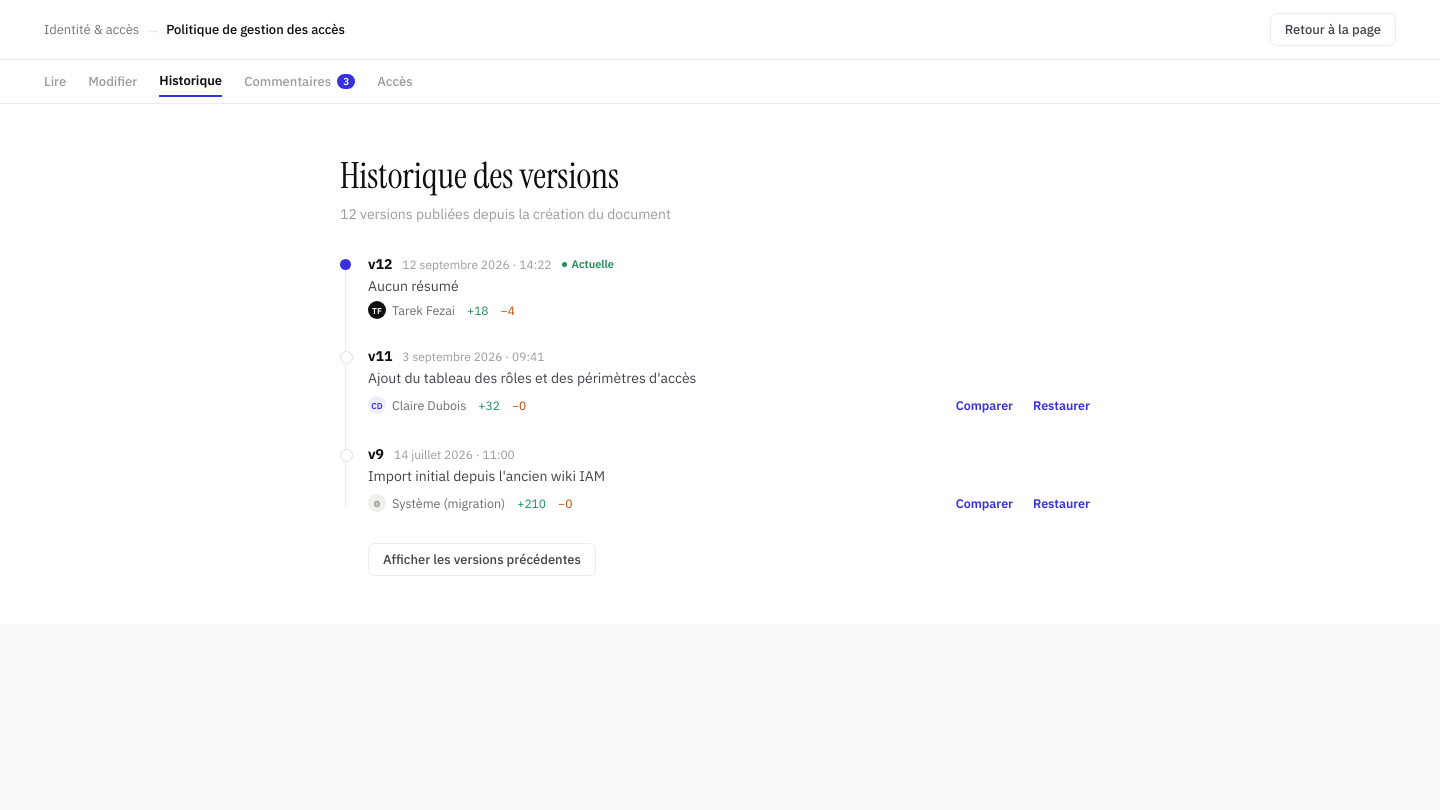
Test case: DocumentHistoryPage › modale : résumé absent → « sans résumé »
The image size is (1440, 810).
Click the button "Restaurer" in the row of "+32" at (1062,405), box left=1023, top=393, right=1100, bottom=417
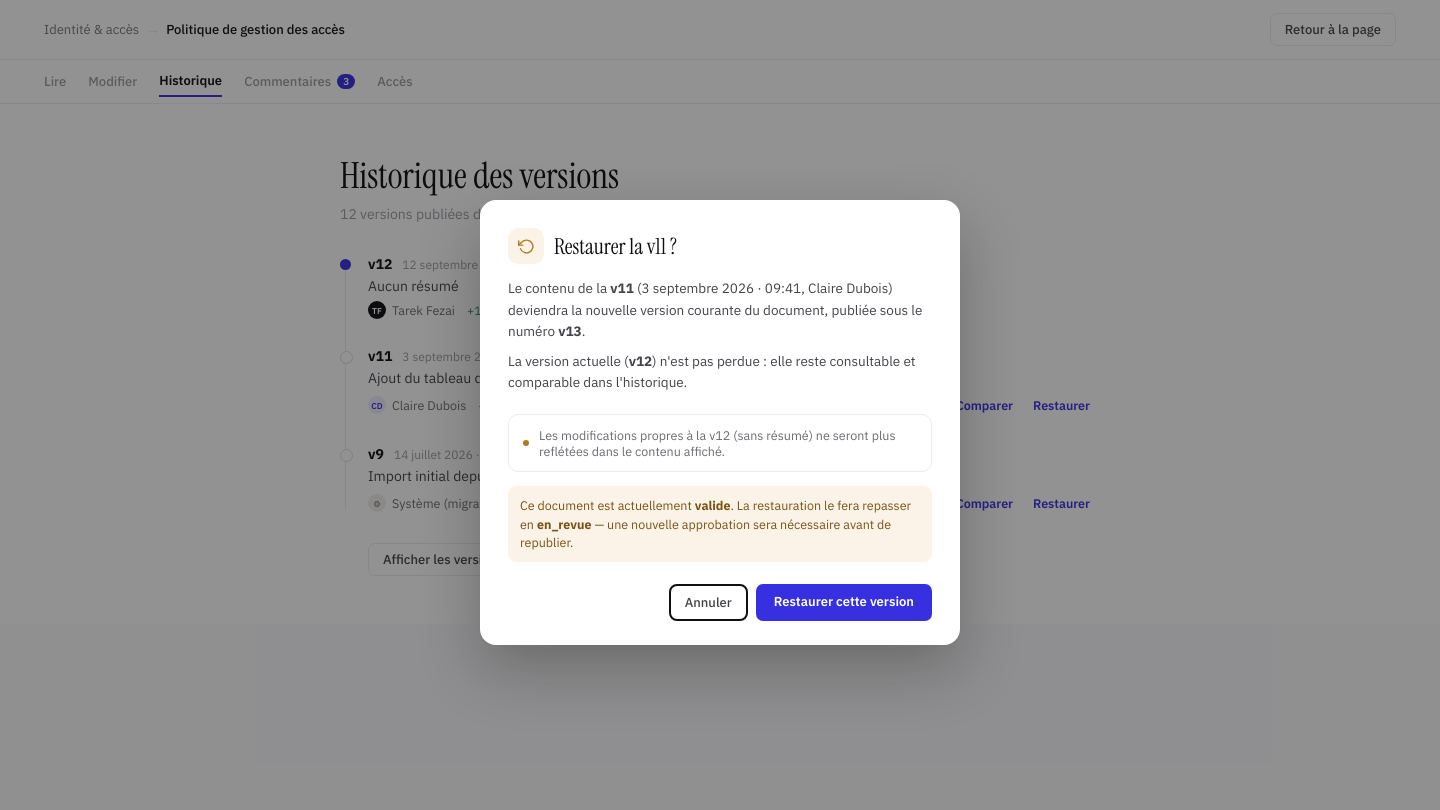
Check: the dialog shows "Les modifications propres à la v12 (sans résumé) ne seront plus reflétées", box left=480, top=200, right=960, bottom=645
